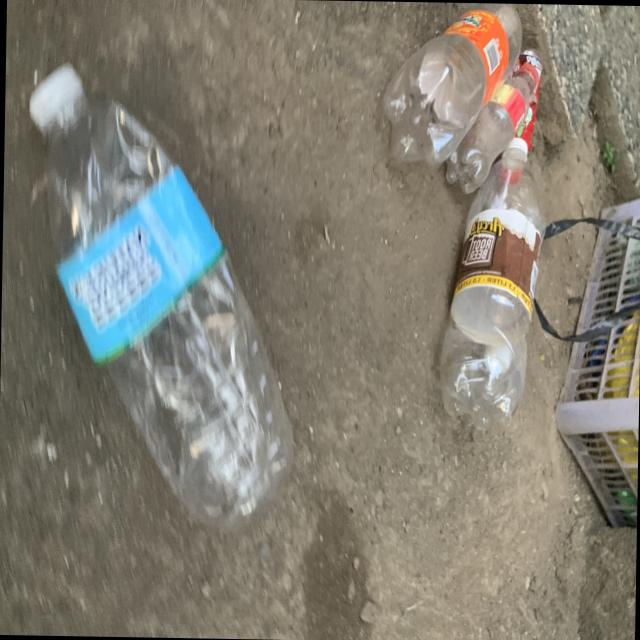Bottle: (28, 64, 291, 523)
